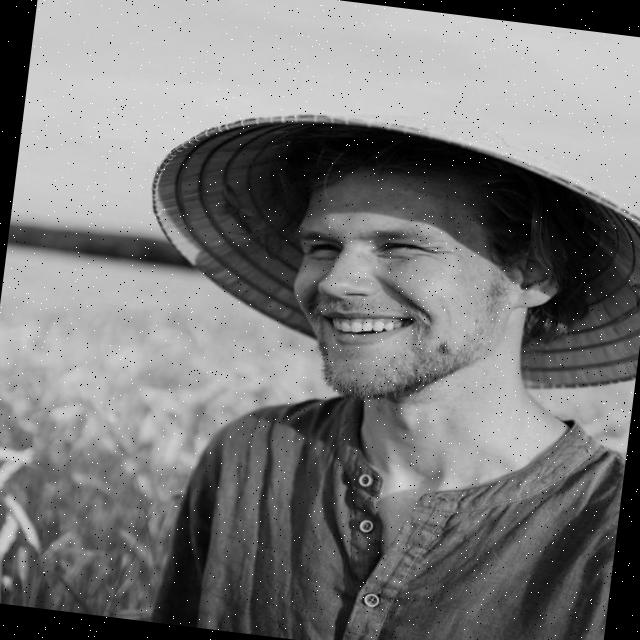Happiness: (274, 165, 506, 415)
